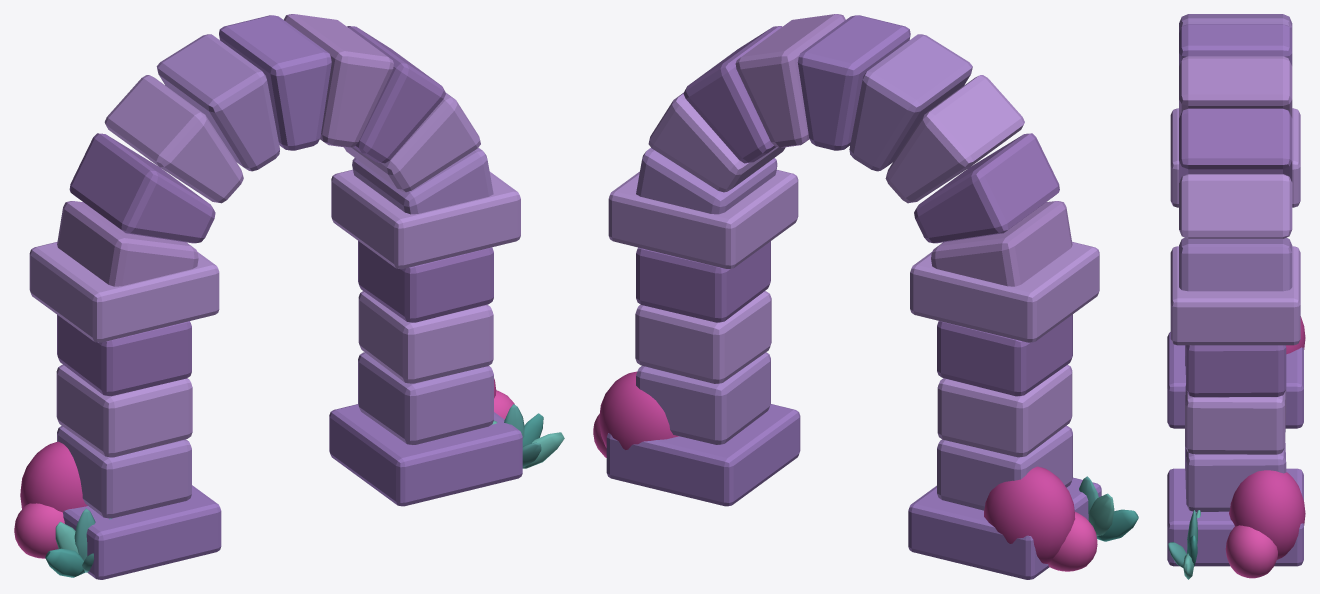
Rendered from stone_archway_NEW.glb.
3 views of the same model, side by side, from view 1: azimuth 30°, elevation 25°; view 2: azimuth 150°, elevation 25°; view 3: azimuth 270°, elevation 25° (orthographic). The views are drawn at different scales.
Parts seen in each view (by area): view 1: stone_archway_NEW_visual; view 2: stone_archway_NEW_visual; view 3: stone_archway_NEW_visual.
Boxes of the visible parts, x1,y1,x2,y2 form: stone_archway_NEW_visual: (14, 14, 564, 579); stone_archway_NEW_visual: (593, 14, 1138, 579); stone_archway_NEW_visual: (1167, 14, 1305, 579).
Bounding box in the file's own units: 3.38 × 2.89 × 0.83.
